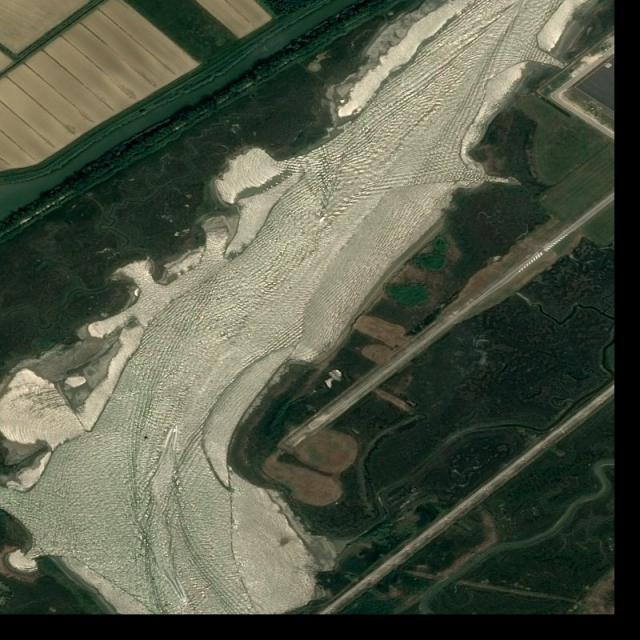ship: (318, 212, 329, 225), (181, 597, 189, 606), (173, 426, 178, 434)
